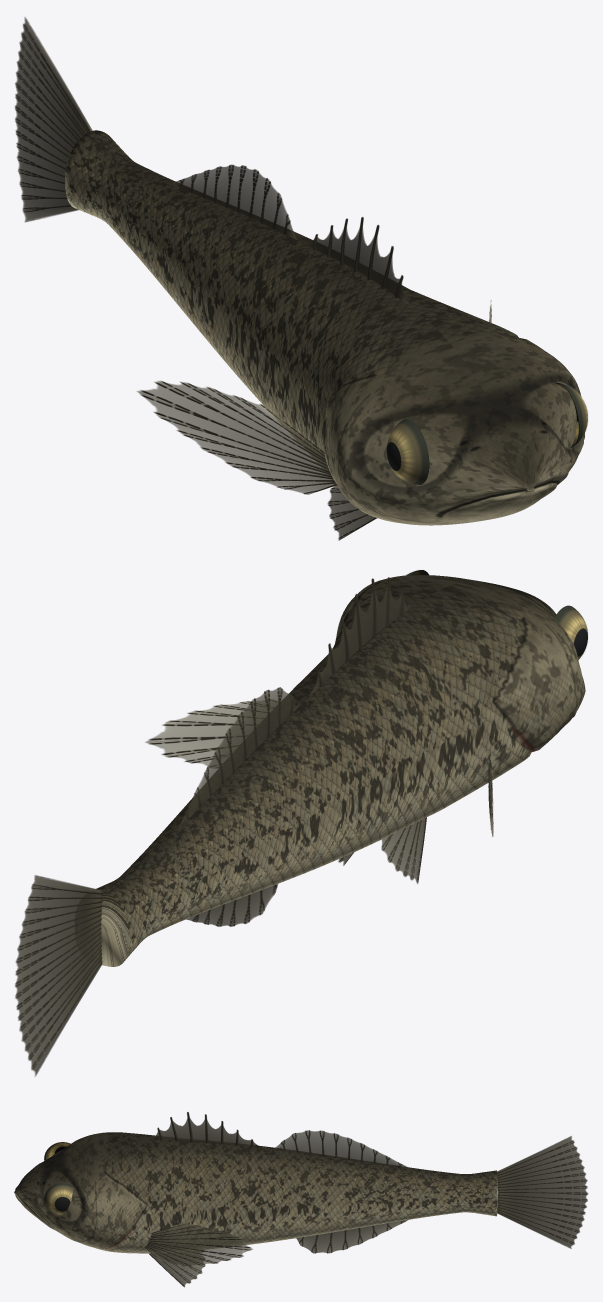
File: babka_bycza.glb
The picture shows the model from 3 angles, top to bottom: view 1: azimuth 30°, elevation 25°; view 2: azimuth 150°, elevation 25°; view 3: azimuth 270°, elevation 25°; orthographic projection. The views are drawn at different scales.
Visible parts, largest first — view 1: Body, FinPectoral, FinCaudal, FinDorsal2, FinDorsal1, EyeLeft, FinPelvic; view 2: Body, FinCaudal, FinPectoral, FinDorsal2, FinDorsal1, FinPelvic, FinAnal, EyeLeft; view 3: Body, FinCaudal, FinPectoral, FinDorsal2, FinDorsal1, FinAnal, FinPelvic, EyeRight.
Boxes of the visible parts, box(x1,y1,x2,y2) form: Body: box(65, 130, 584, 525); FinPectoral: box(136, 300, 491, 494); FinCaudal: box(15, 17, 92, 222); FinDorsal2: box(170, 164, 296, 239); FinDorsal1: box(301, 217, 411, 306); EyeLeft: box(386, 419, 429, 484); FinPelvic: box(327, 485, 376, 540); Body: box(96, 575, 585, 966); FinCaudal: box(15, 875, 102, 1076); FinPectoral: box(145, 699, 493, 836); FinDorsal2: box(178, 687, 300, 829); FinDorsal1: box(306, 577, 413, 698); FinPelvic: box(338, 817, 426, 883); FinAnal: box(186, 884, 277, 926); EyeLeft: box(554, 605, 587, 659); Body: box(14, 1132, 498, 1253); FinCaudal: box(497, 1136, 588, 1248); FinPectoral: box(144, 1223, 252, 1266); FinDorsal2: box(273, 1130, 410, 1168); FinDorsal1: box(146, 1112, 267, 1148); FinAnal: box(296, 1220, 407, 1253); FinPelvic: box(149, 1250, 205, 1287); EyeRight: box(44, 1182, 72, 1215).
Bounding box in the file's own units: 0.3935 × 0.3284 × 1.
9 materials, 8 textured.
